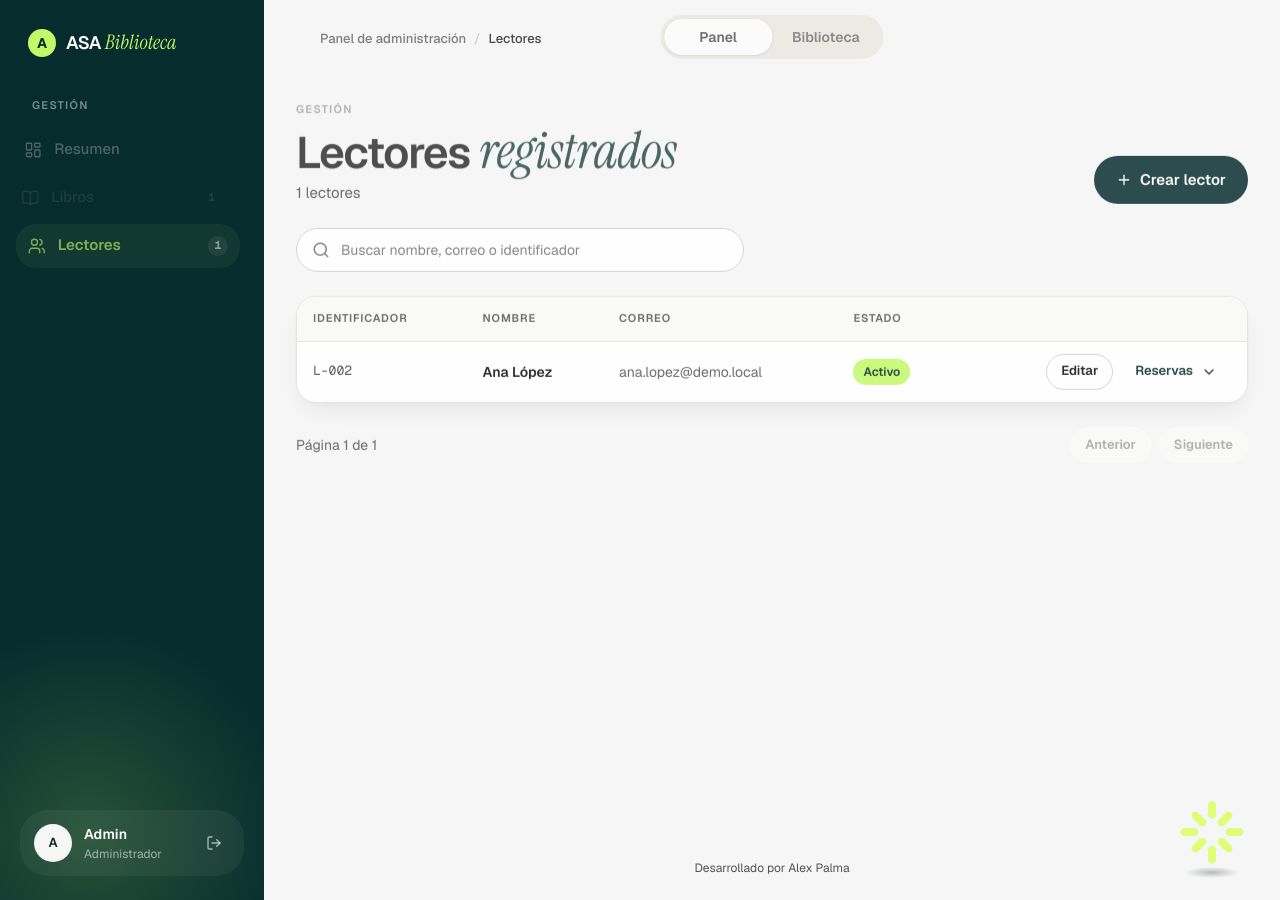
Test case: admin: estado del lector al editar › pasar de Activo a Inactivo usa la desactivación existente (DELETE)
Click the button "Editar": (1080, 371) [1046,353,1113,389]
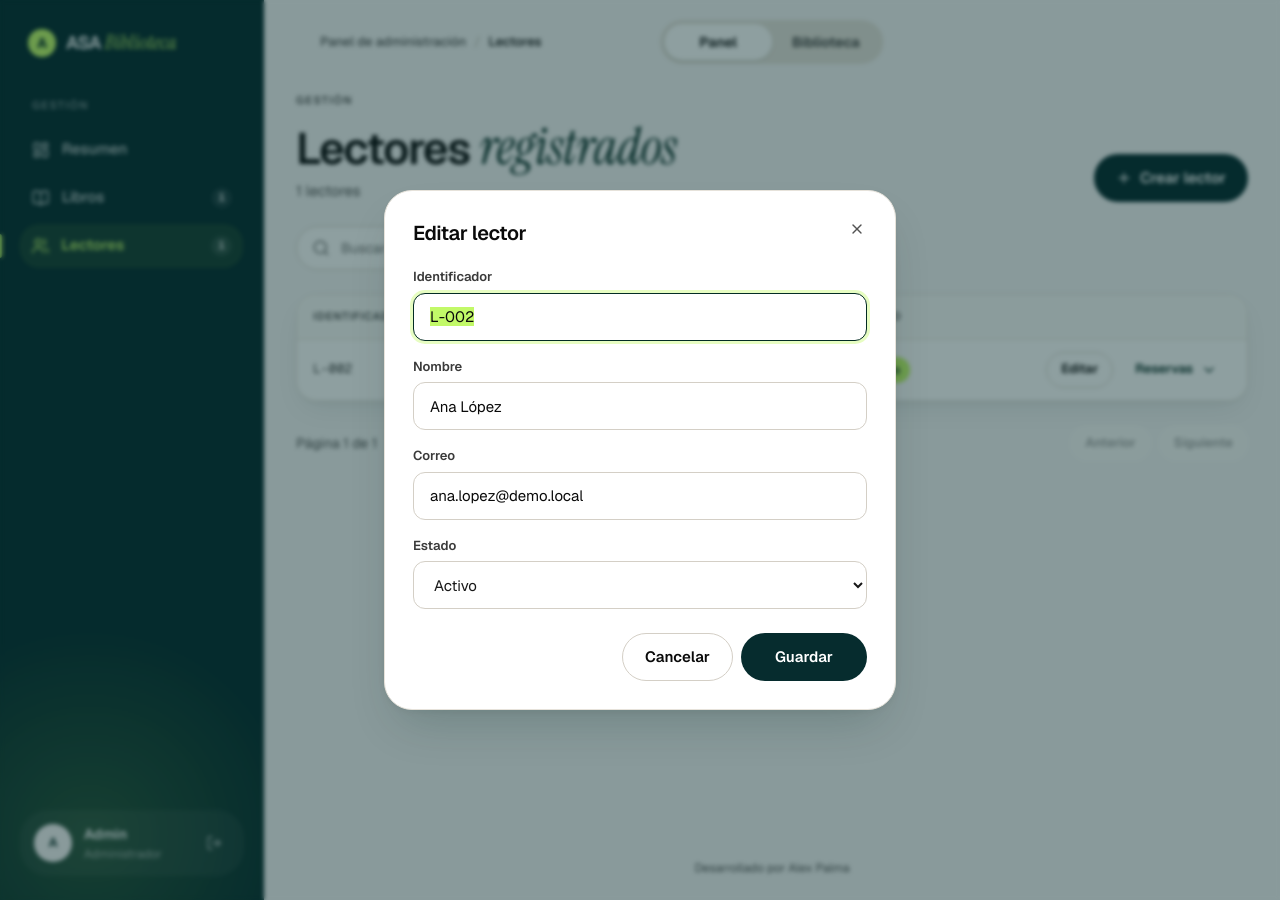
Select "Inactivo" in the dropdown labelled "Estado": (640, 585) [413,561,867,609]
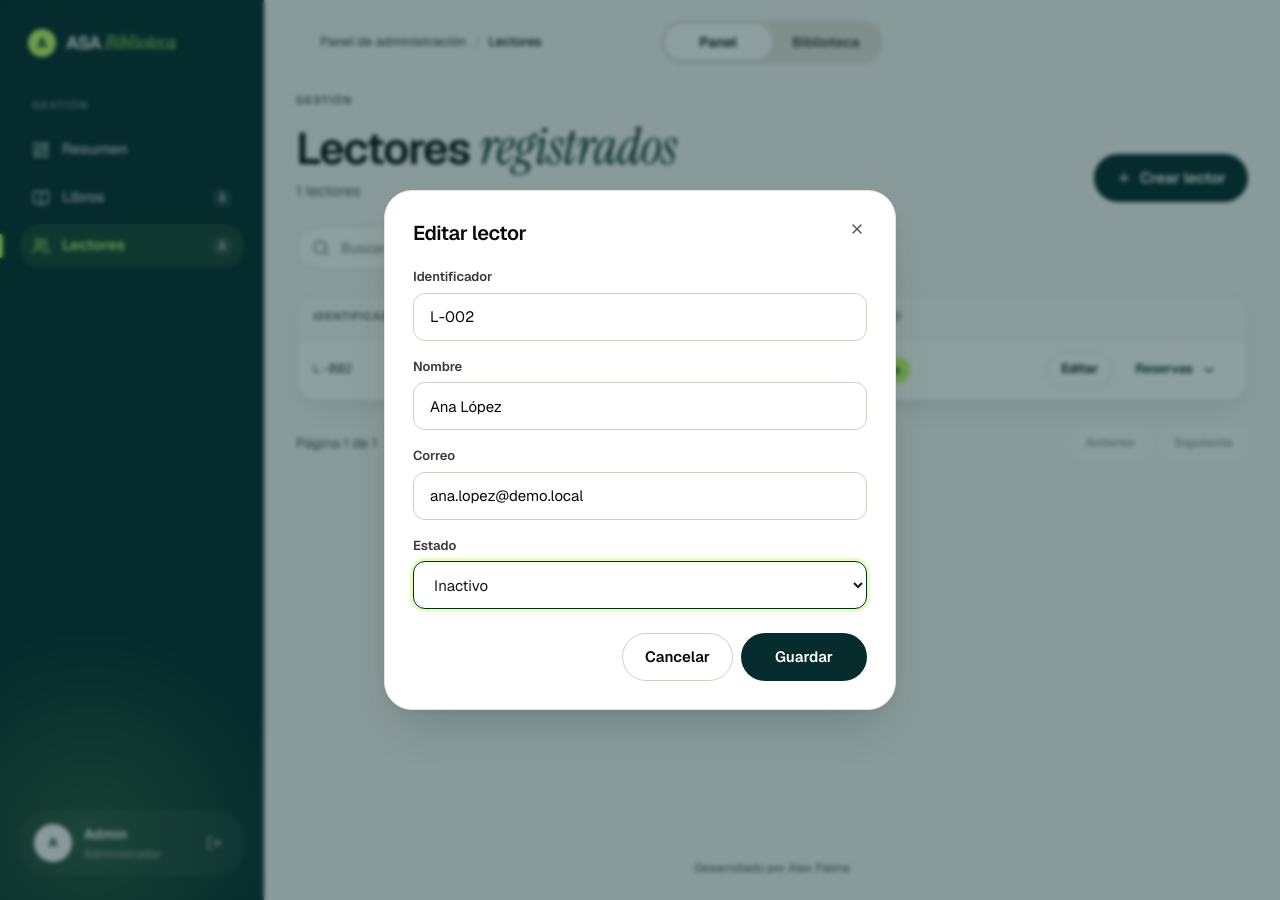
Click the button "Guardar": (804, 657) [741,633,867,681]
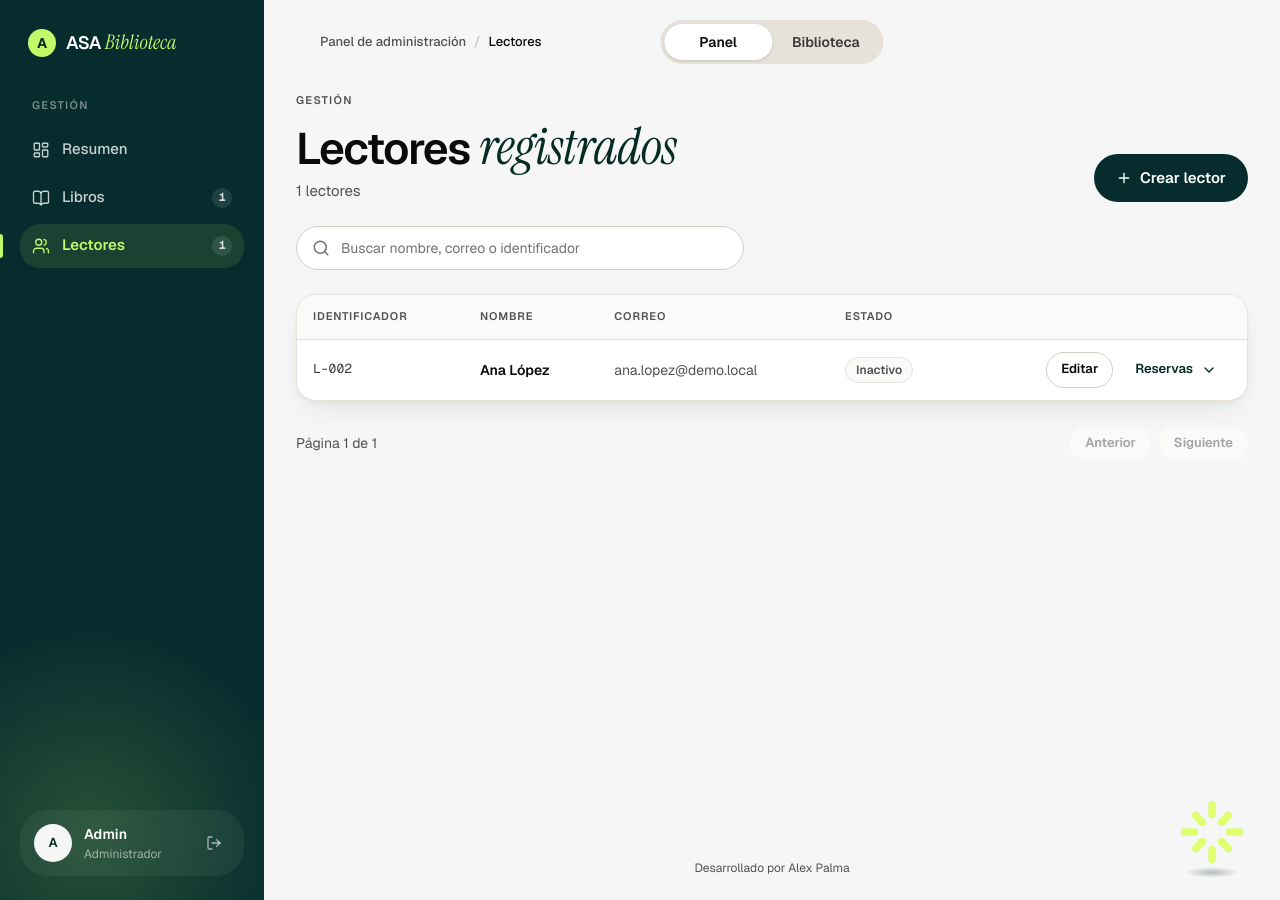
expect the heading "Editar lector" is gone: met
